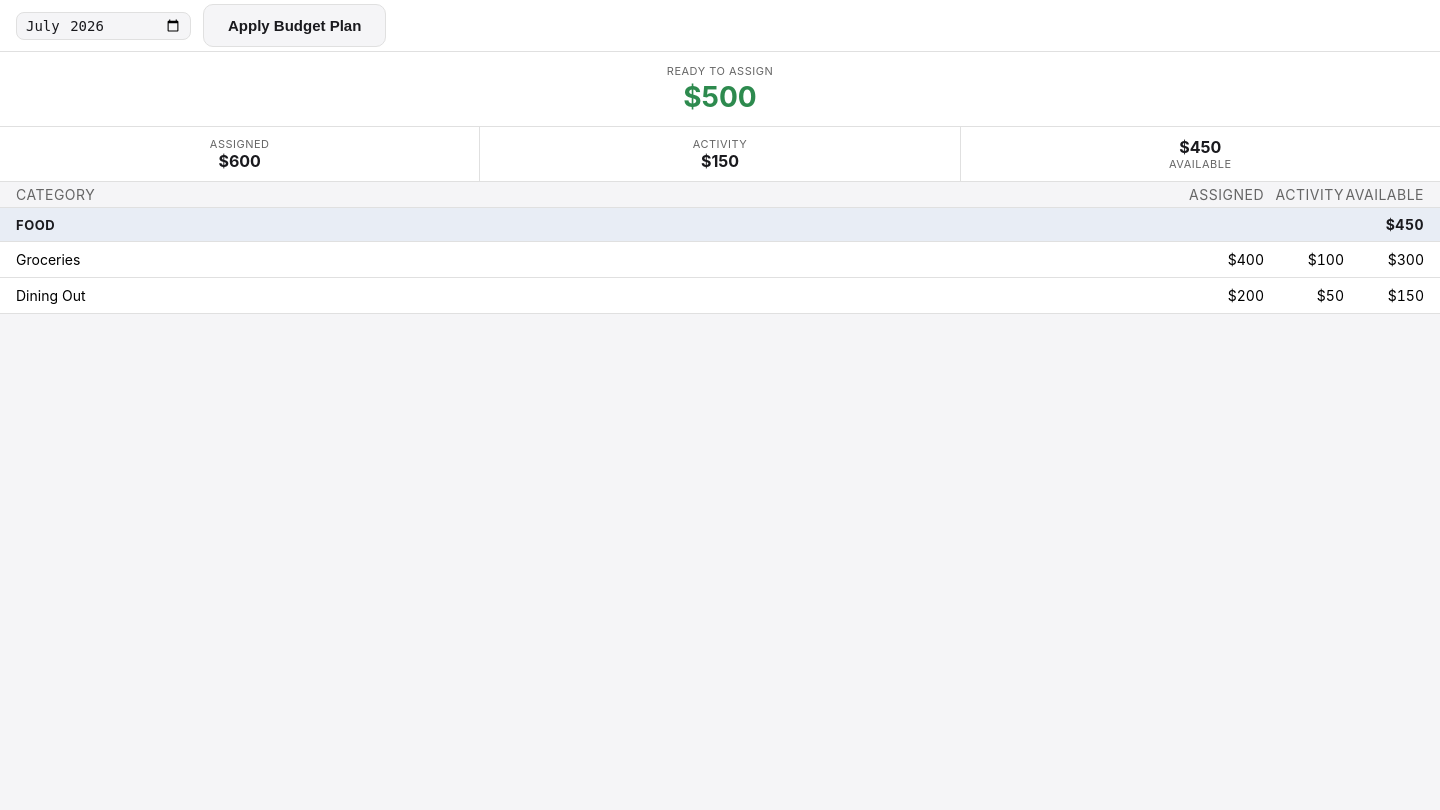
Plan screen — move money › selecting a source moves to confirm step
Click the button "Groceries $400 $100 $300": (48, 260) [0,242,1439,278]
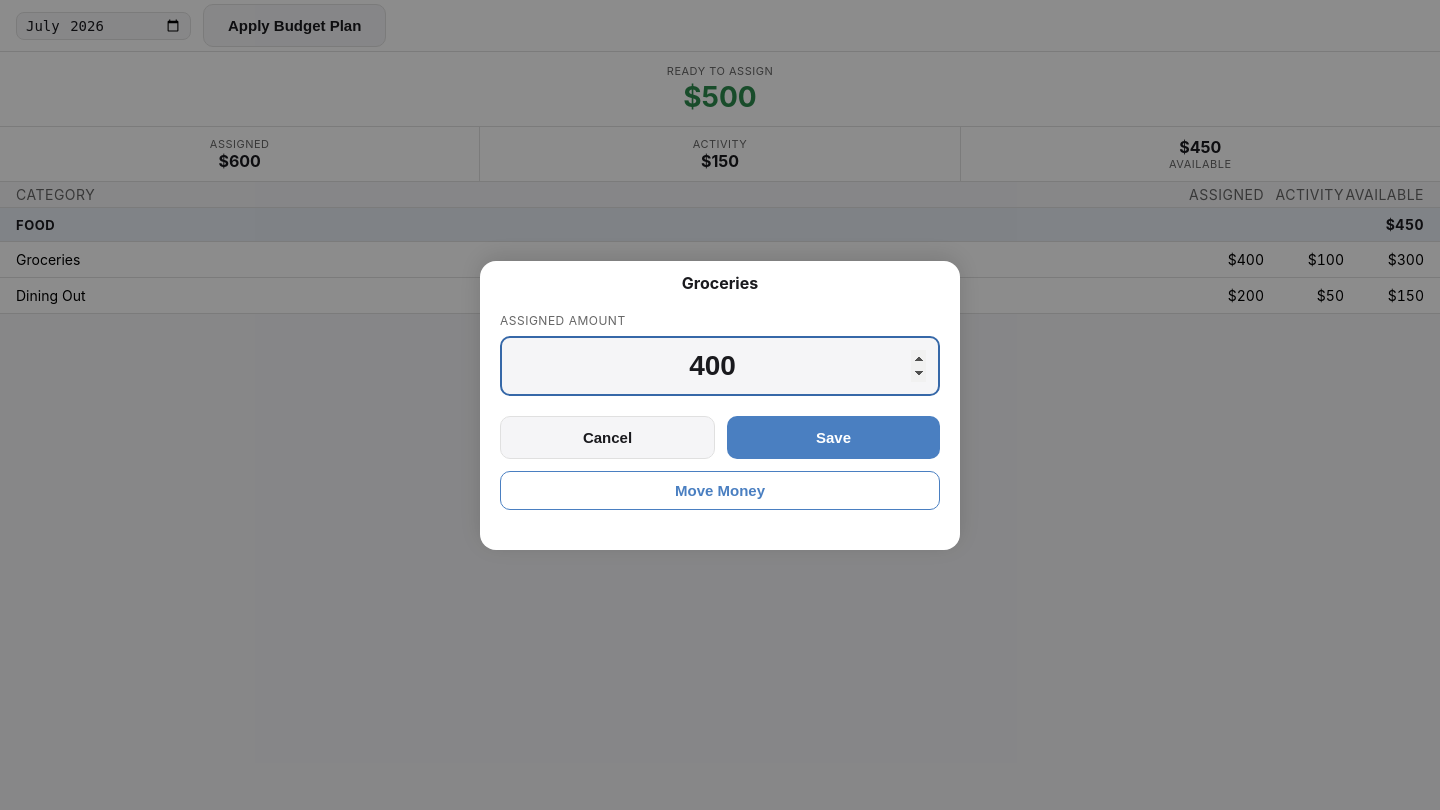
Click the button "Move Money": (720, 490) [500,470,940,510]
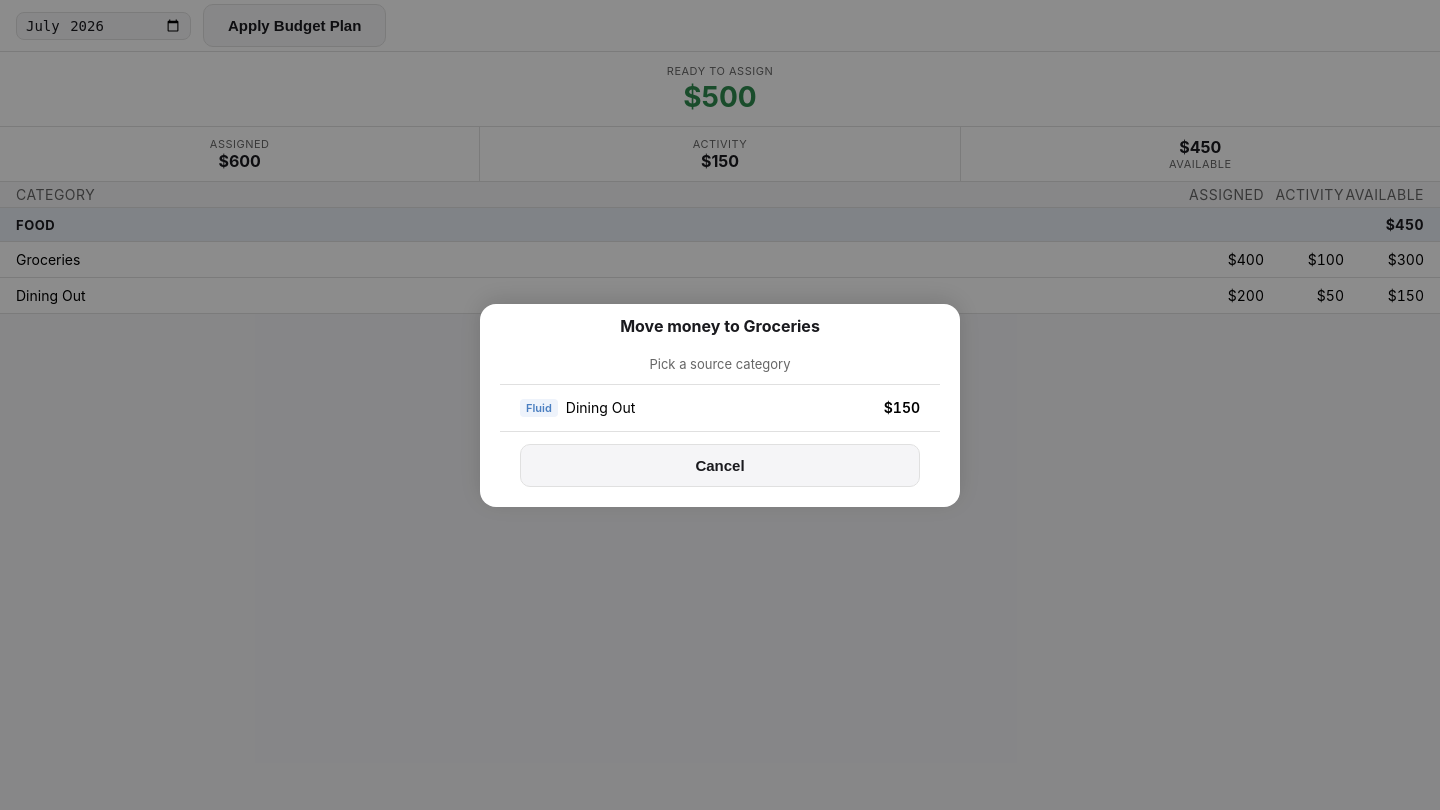
Click the button "Fluid Dining Out $150": (539, 408) [500,384,940,432]
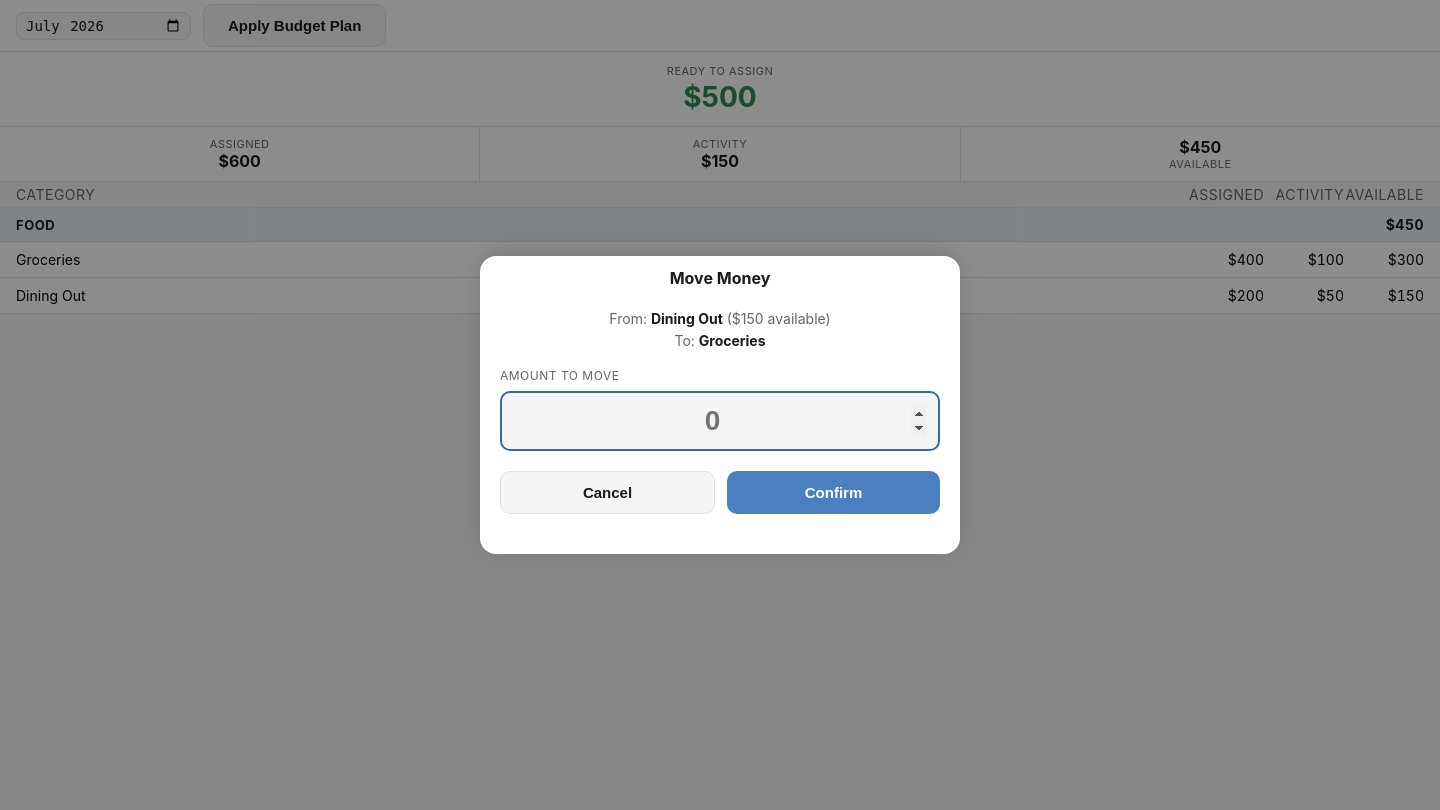
expect the button "Confirm" is shown: met, box [727,471,940,514]
expect the text "Amount to move" is shown: met, box [500,368,619,383]
